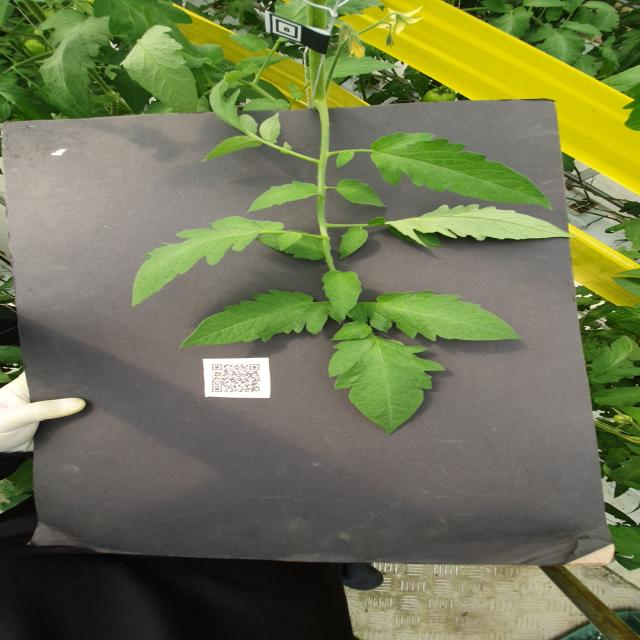Healthy Leaf: (133, 216, 303, 309), (371, 132, 557, 213), (329, 336, 446, 438), (382, 204, 578, 253), (347, 291, 527, 344), (178, 291, 329, 352), (200, 71, 295, 164), (38, 9, 114, 119), (122, 25, 200, 113), (527, 24, 587, 68), (247, 181, 320, 215), (590, 336, 640, 385), (322, 270, 364, 320), (326, 56, 405, 81), (338, 180, 388, 209), (235, 56, 296, 74), (339, 227, 371, 261), (592, 386, 640, 407), (331, 322, 373, 342), (230, 34, 271, 53)
